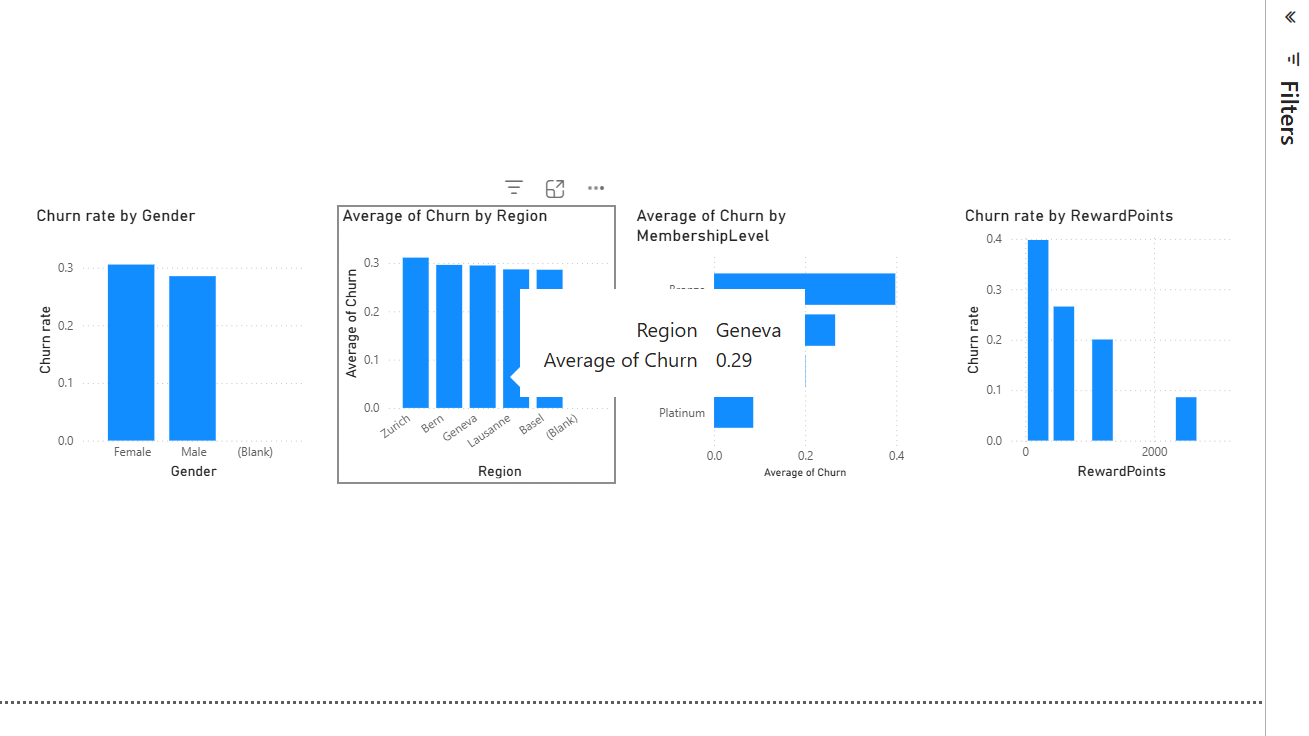

This screenshot's page, from the dashboard's own definition file:
{"tool":"powerbi","page":{"name":"Page 2","canvas":[1280,720],"ordinal":1},"visuals":[{"type":"clusteredColumnChart","fields":{"Y":["CustomerActivity.Churn rate"],"Category":["Customer.Gender"]},"box":[35,220,280,280],"z":0},{"type":"clusteredColumnChart","fields":{"Category":["Customer.Region"],"Y":["Avg(CustomerActivity.Churn)"]},"box":[343.3,220,280,280],"z":1000},{"type":"clusteredBarChart","fields":{"Category":["CustomerActivity.MembershipLevel"],"Y":["Avg(CustomerActivity.Churn)"]},"box":[640,220,280,280],"z":2000},{"type":"clusteredColumnChart","fields":{"Category":["Membership.RewardPoints"],"Y":["CustomerActivity.Churn rate"]},"box":[971.7,220,280,280],"z":3000}]}

Visuals, with their boxes on the page's 1280x720 design canvas (x1, y1, x2, y2). These are canvas units, not pixel positions in the 1309x736 screenshot, which may show the page scaled, cropped or inside an application window:
clusteredColumnChart - CustomerActivity.Churn rate x Customer.Gender: bbox=(35, 220, 315, 500)
clusteredColumnChart - Customer.Region x Avg(CustomerActivity.Churn): bbox=(343, 220, 623, 500)
clusteredBarChart - CustomerActivity.MembershipLevel x Avg(CustomerActivity.Churn): bbox=(640, 220, 920, 500)
clusteredColumnChart - Membership.RewardPoints x CustomerActivity.Churn rate: bbox=(972, 220, 1252, 500)
